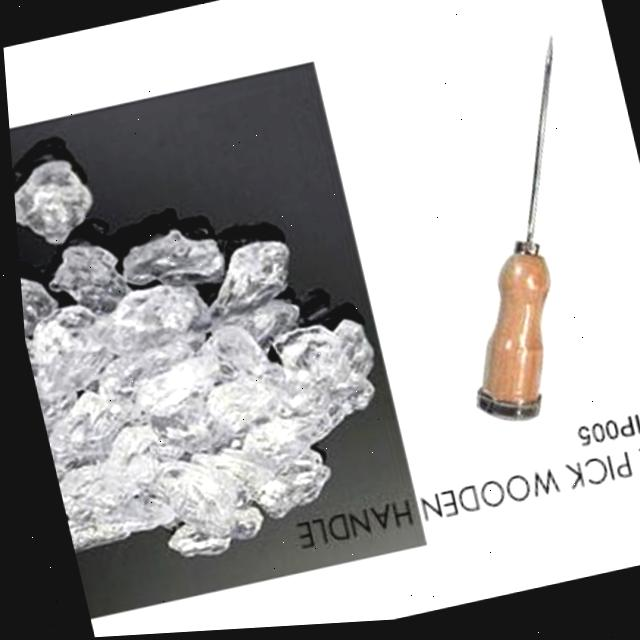ice pick: (388, 36, 635, 443)
